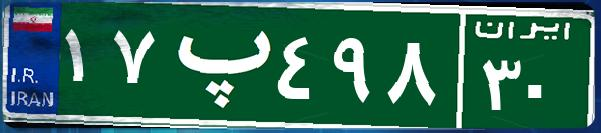0: (525, 38, 570, 115)
1: (57, 26, 110, 107)
3: (475, 38, 525, 113)
4: (273, 28, 330, 110)
7: (110, 28, 158, 105)
8: (385, 28, 445, 110)
9: (330, 28, 385, 110)
پ: (158, 15, 273, 115)
